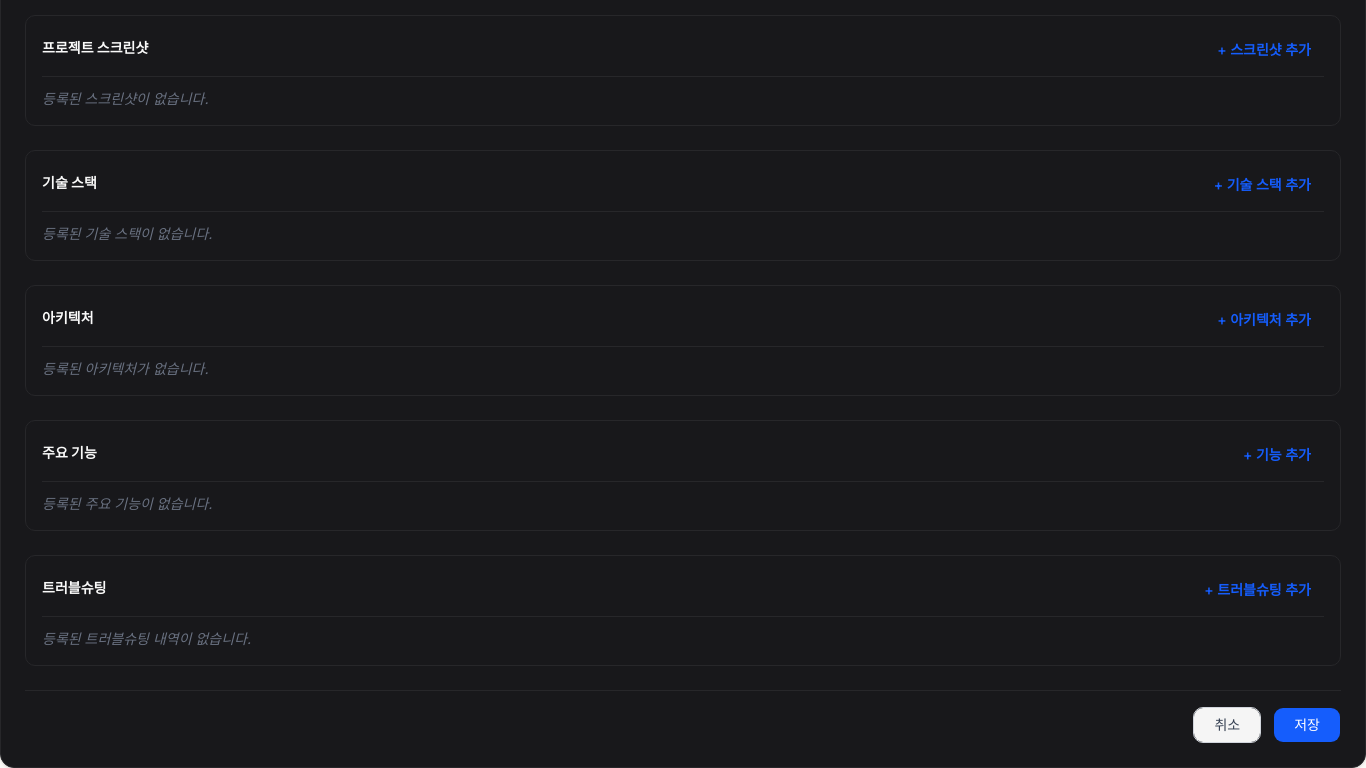
Test: ProjectForm 컴포넌트 › 필수 값 누락 시 Zod 에러 메시지를 렌더링해야 한다
This screenshot has width=1366, height=768.
(page scrolled)
Note: 아무 값도 입력하지 않고 Submit 버튼 클릭
Click the button "저장". click: (1307, 725)
box: top-left (1273, 707), bottom-right (1341, 743)
(page scrolled)
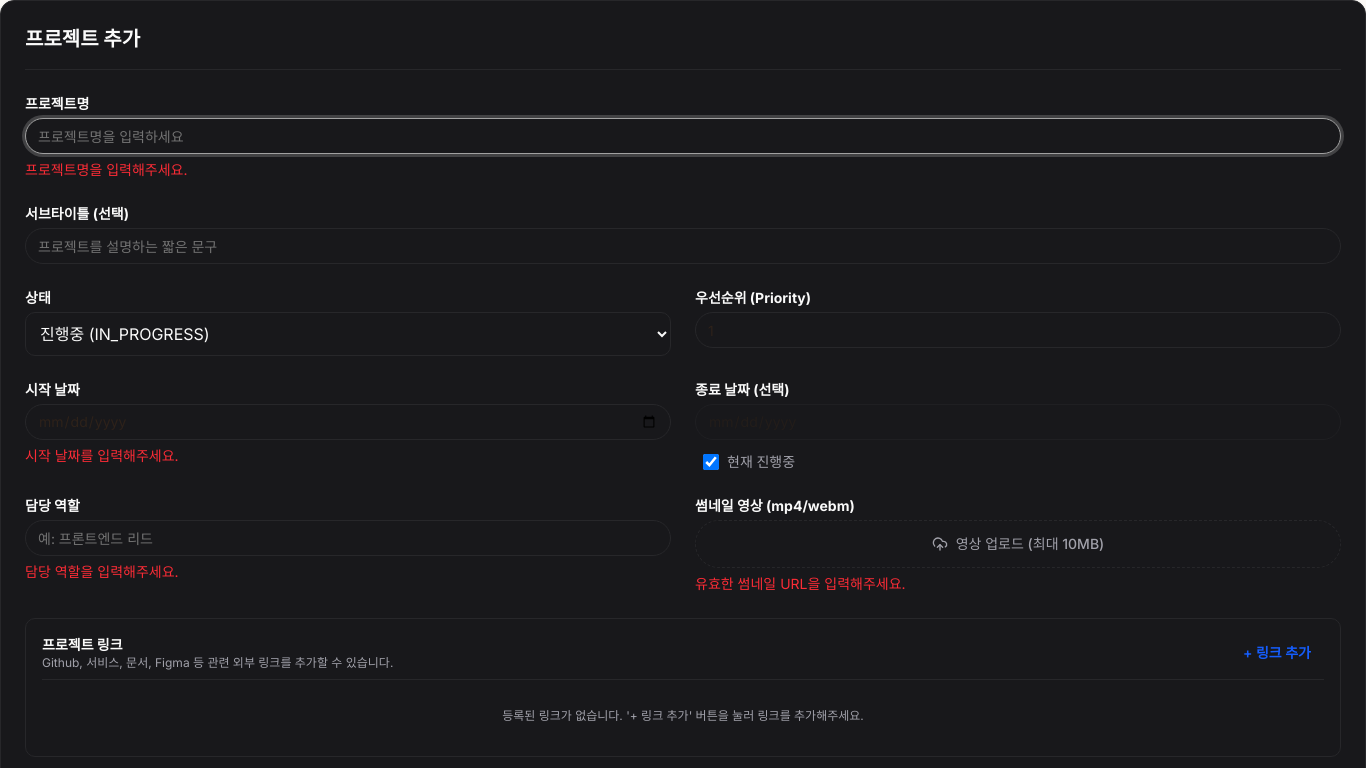
Expected: the text "프로젝트명을 입력해주세요." is shown, top-left (25, 161), bottom-right (188, 178)
Expected: the text "시작 날짜를 입력해주세요." is shown, top-left (25, 447), bottom-right (179, 464)
Expected: the text "담당 역할을 입력해주세요." is shown, top-left (25, 563), bottom-right (179, 580)
